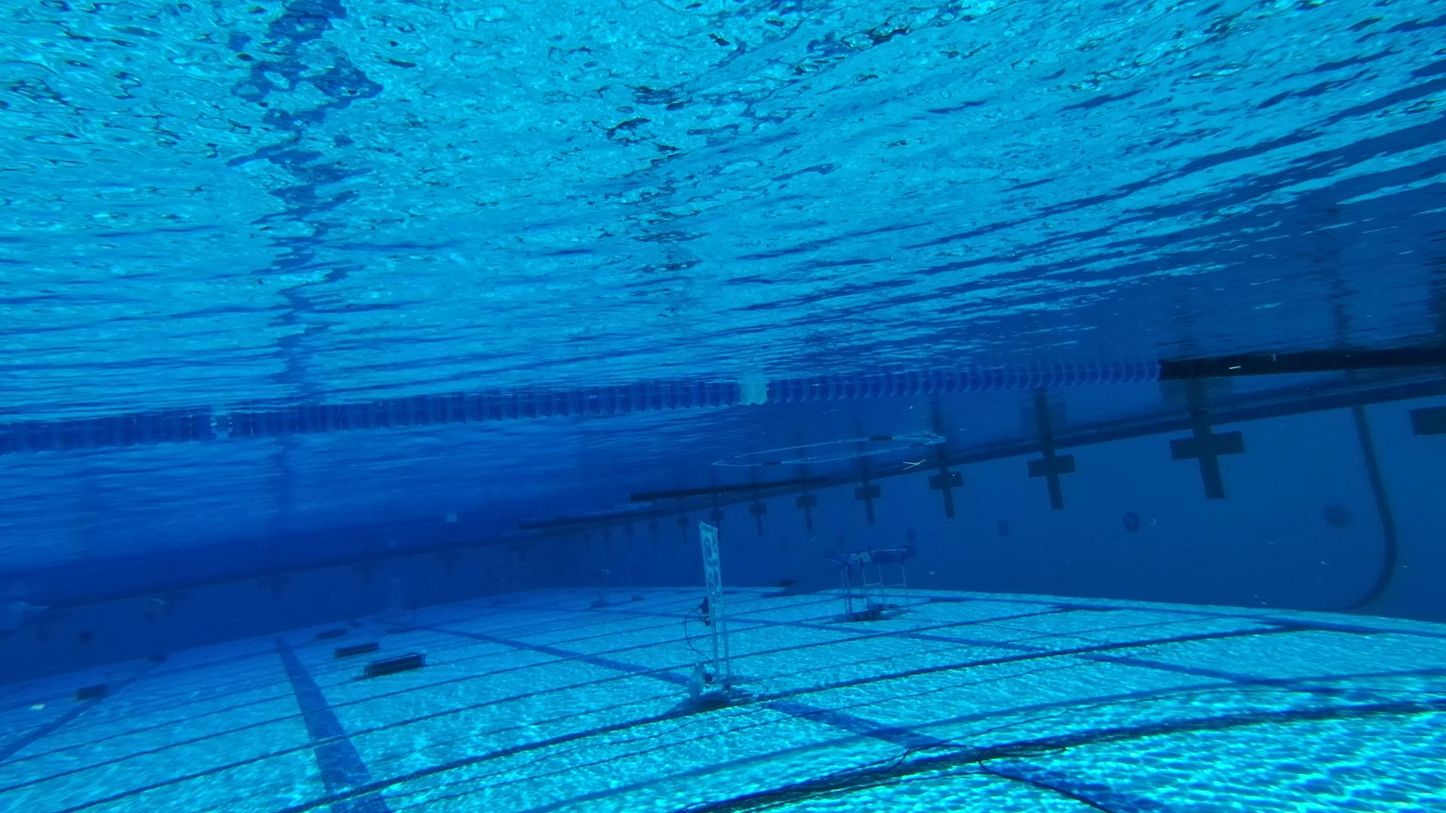buoy: (72, 624, 104, 652), (144, 601, 156, 626)
coral-box-side: (819, 541, 936, 621), (586, 561, 644, 607), (490, 568, 537, 601)
dropper-box-side: (353, 654, 425, 690), (333, 638, 386, 660), (311, 630, 368, 637)
